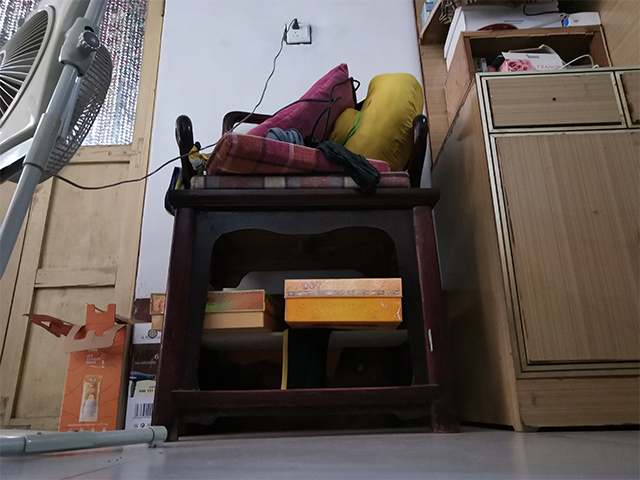cabinet: (427, 68, 640, 434)
stool: (150, 108, 463, 443)
